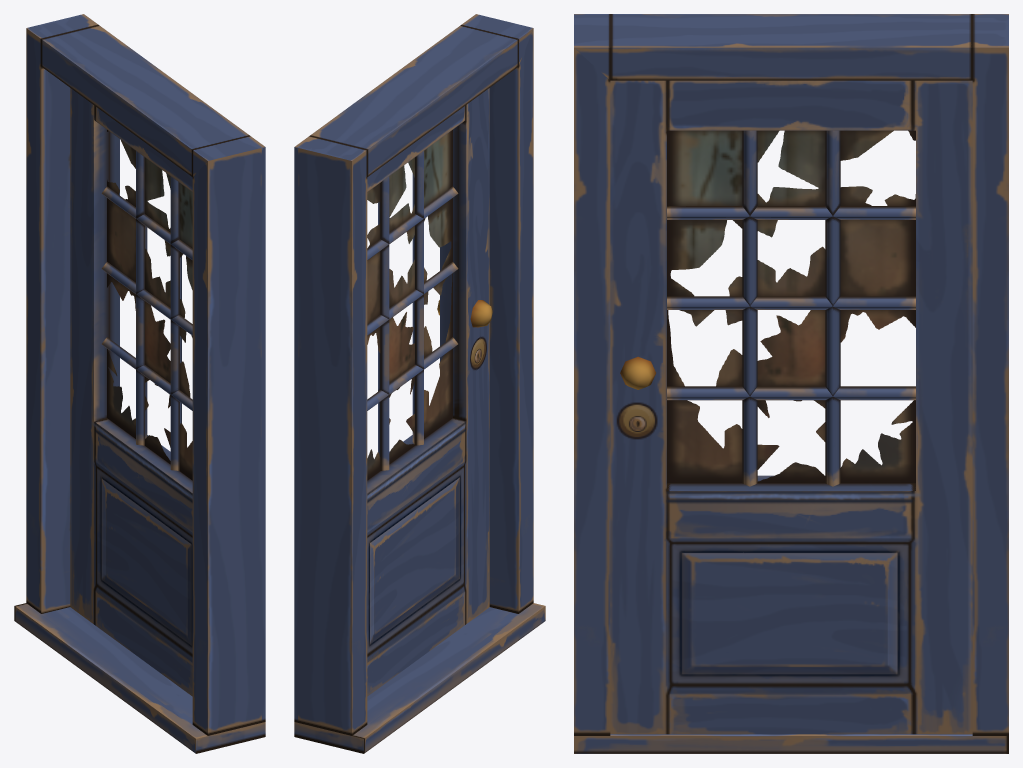
The model's file is storeFront02_door.FBX.
The picture shows the model from 3 angles, left to right: view 1: azimuth 30°, elevation 25°; view 2: azimuth 150°, elevation 25°; view 3: azimuth 270°, elevation 25°; orthographic projection. The views are drawn at different scales.
Visible parts, largest first — view 1: storeFront02_door_frame, storeFront02_door, storeFront02_door_glass; view 2: storeFront02_door_frame, storeFront02_door, storeFront02_door_glass; view 3: storeFront02_door, storeFront02_door_frame, storeFront02_door_glass.
Part boxes in pixels (left/top/right/bottom): storeFront02_door_frame: left=14, top=14, right=265, bottom=753; storeFront02_door: left=70, top=88, right=192, bottom=696; storeFront02_door_glass: left=107, top=130, right=192, bottom=480; storeFront02_door_frame: left=294, top=14, right=545, bottom=753; storeFront02_door: left=367, top=88, right=492, bottom=696; storeFront02_door_glass: left=367, top=130, right=452, bottom=480; storeFront02_door: left=610, top=80, right=972, bottom=734; storeFront02_door_frame: left=574, top=14, right=1008, bottom=753; storeFront02_door_glass: left=667, top=130, right=915, bottom=483.
Bounding box in the file's own units: 30.5 × 215 × 120.
